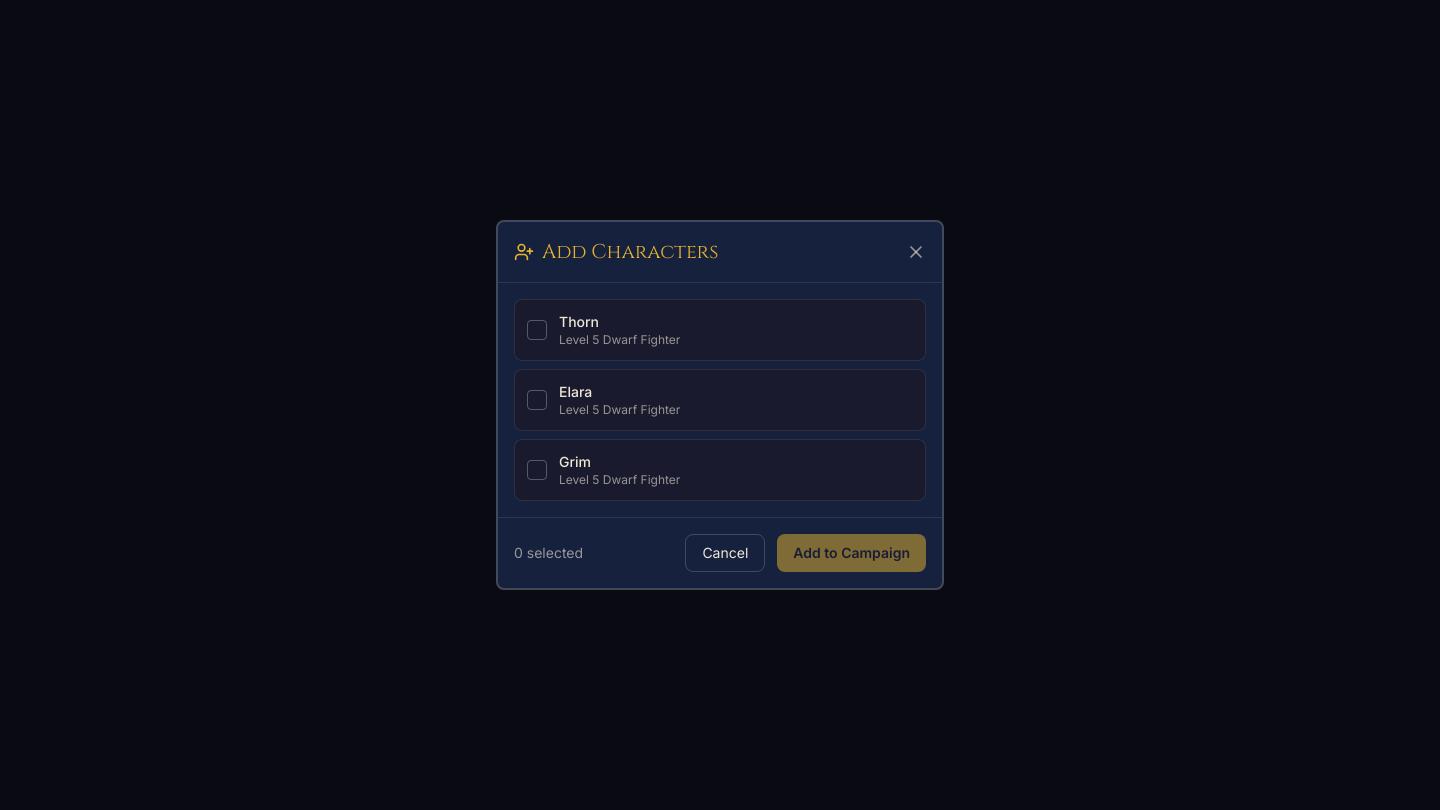
CharacterPicker › allows deselecting characters
This screenshot has width=1440, height=810.
Click the text "Thorn" at (579, 322), box [559,313,599,330]
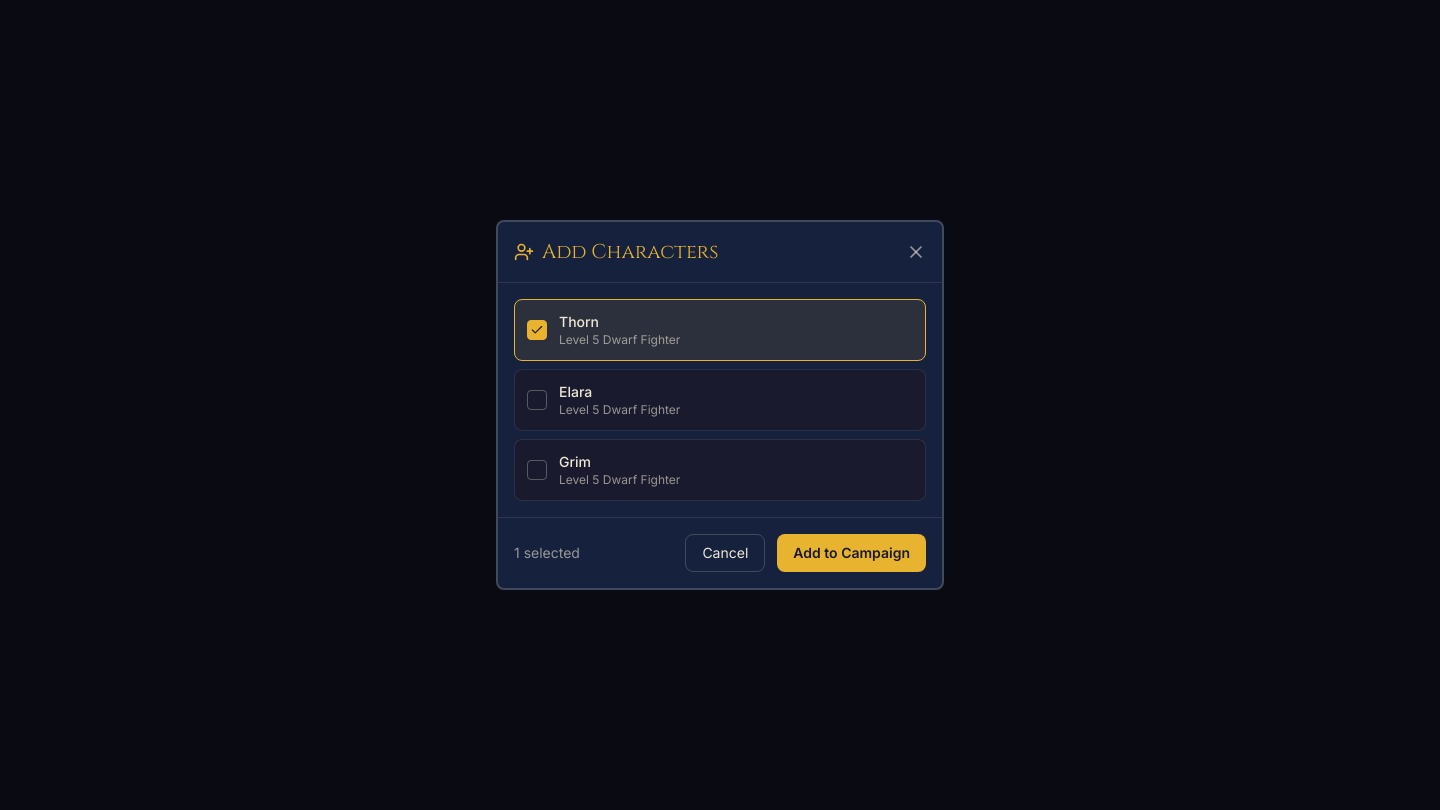
Now the text "1 selected" is shown, box [514,543,580,563]
Click the text "Thorn" at (579, 322), box [559,313,599,330]
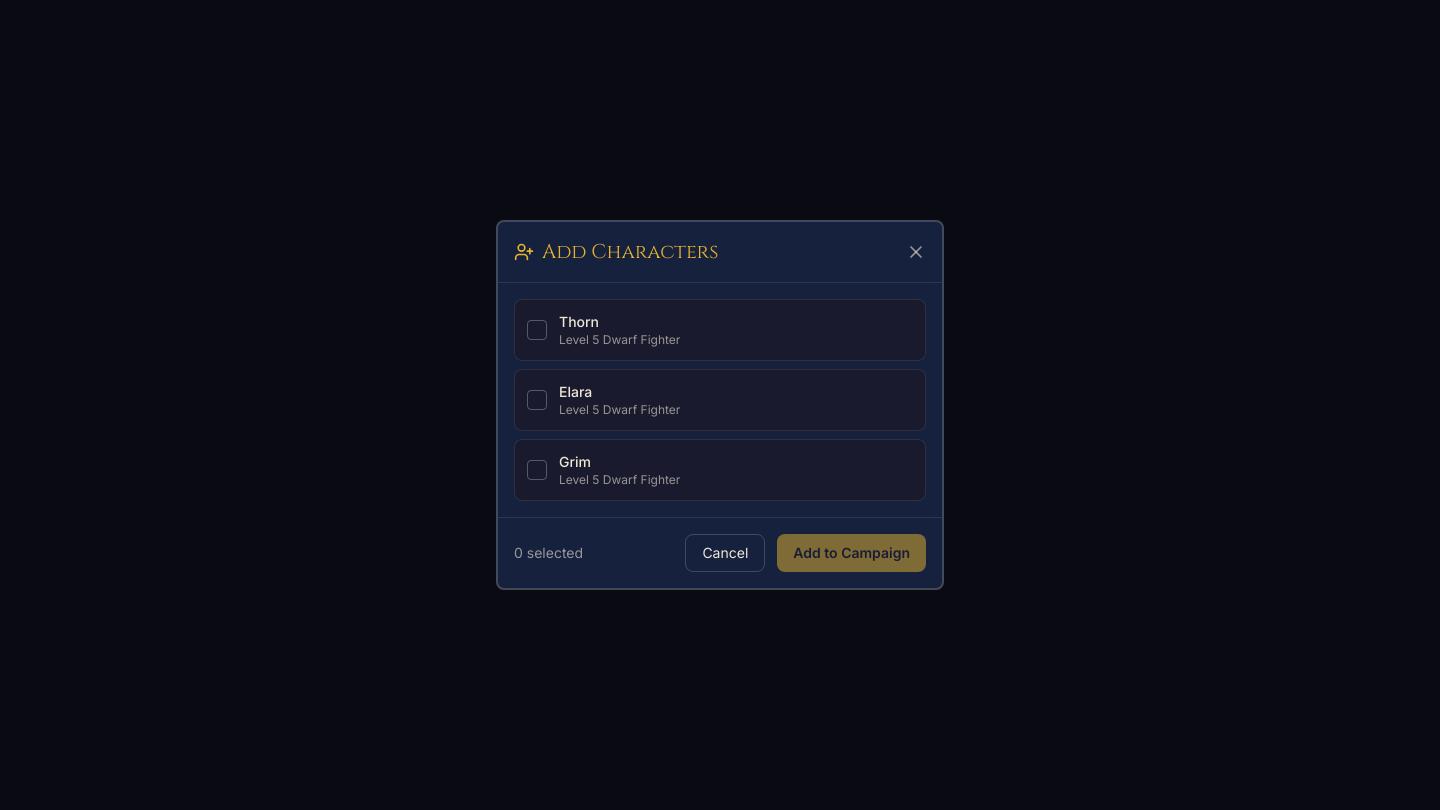
Now the text "0 selected" is shown, box [514,543,583,563]
